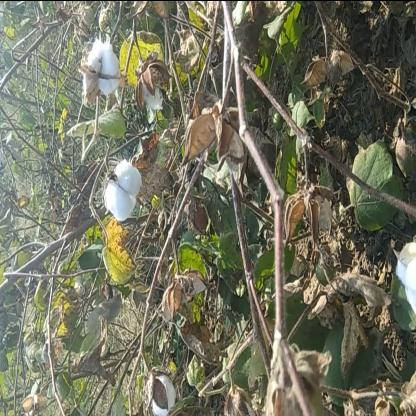cotton_ready: (78, 33, 140, 109), (110, 141, 155, 242)
